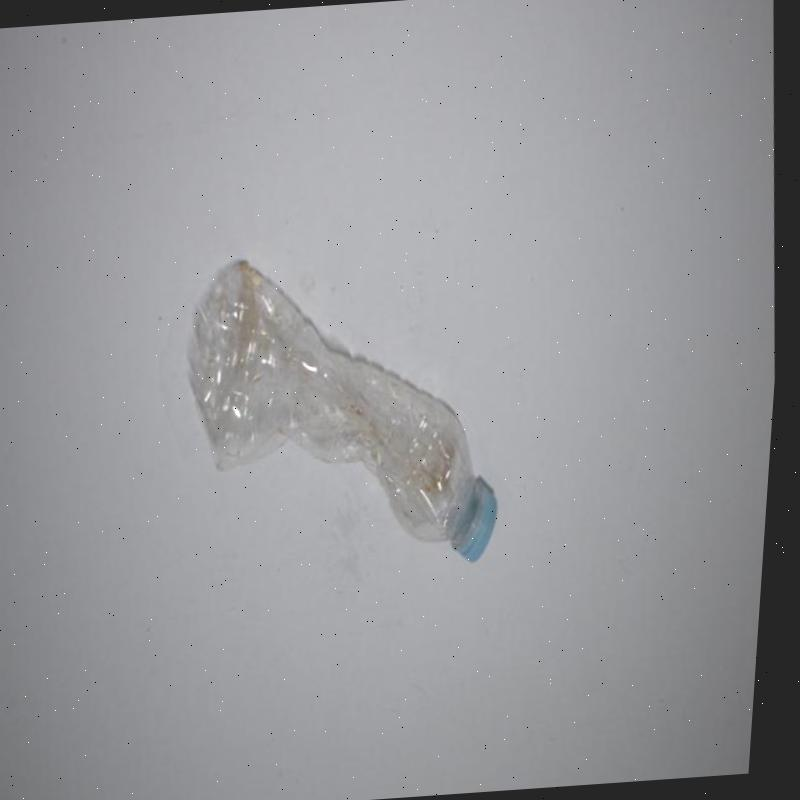botella: (172, 241, 522, 583)
